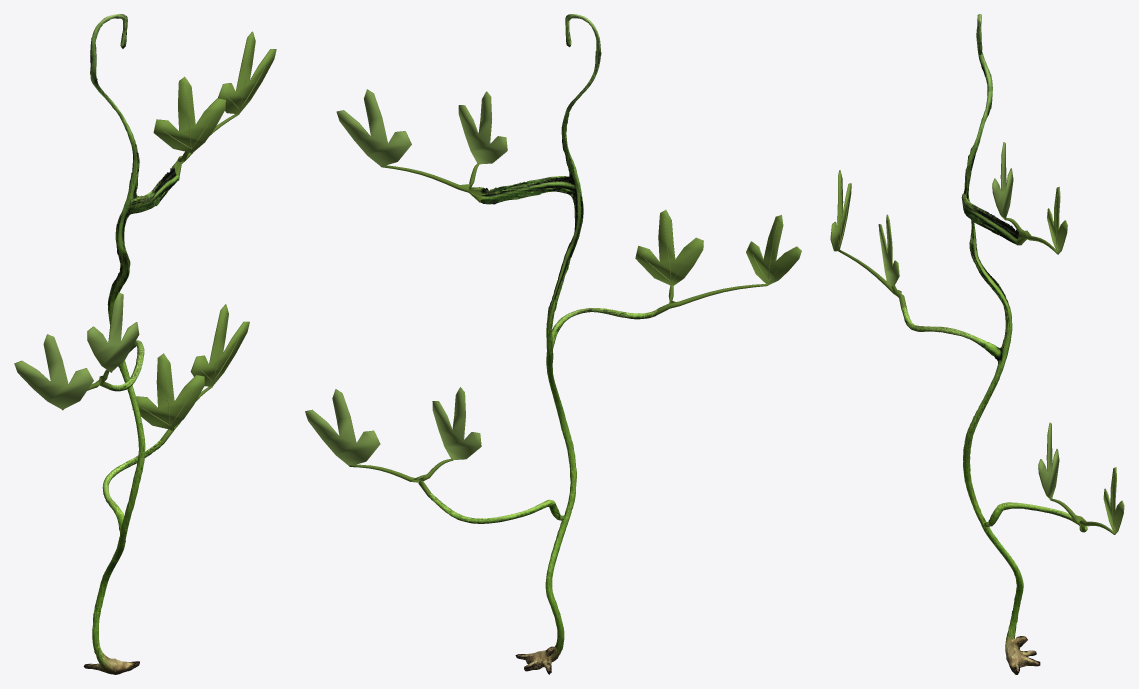
3 views of the same model, side by side, from view 1: azimuth 30°, elevation 25°; view 2: azimuth 150°, elevation 25°; view 3: azimuth 270°, elevation 25° (orthographic). The views are drawn at different scales.
Parts seen in each view (by area): view 1: NEW-local-foliage, PROTECTED-original-regions; view 2: NEW-local-foliage, PROTECTED-original-regions; view 3: PROTECTED-original-regions, NEW-local-foliage.
Part boxes in pixels (x1=…): NEW-local-foliage: x1=14, y1=31, x2=276, y2=542; PROTECTED-original-regions: x1=83, y1=14, x2=179, y2=674; NEW-local-foliage: x1=305, y1=89, x2=801, y2=520; PROTECTED-original-regions: x1=428, y1=14, x2=657, y2=674; PROTECTED-original-regions: x1=901, y1=14, x2=1087, y2=674; NEW-local-foliage: x1=830, y1=142, x2=1124, y2=534.
Bounding box in the file's own units: 0.5856 × 0.9983 × 0.4157.
5 materials, 1 textured.
